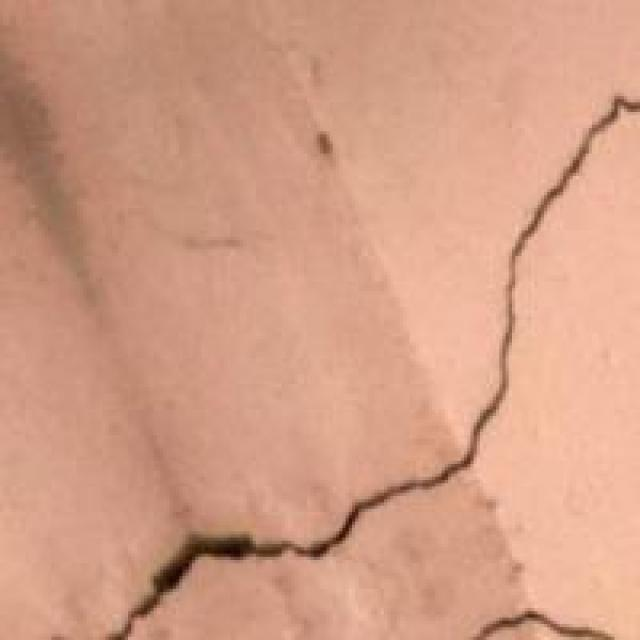Crack: (80, 77, 637, 637)
